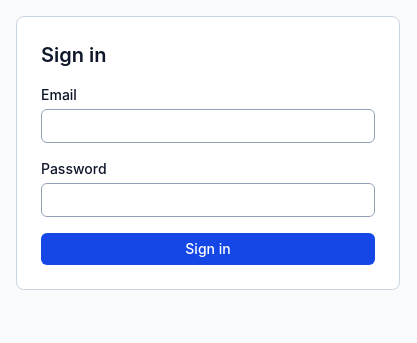
Test: LoginPage › displays invalid credentials and rate-limit errors from API
In the field labelled "Email": (208, 126) 41,109 -> 375,143, type "agent1@helpdesk.local"
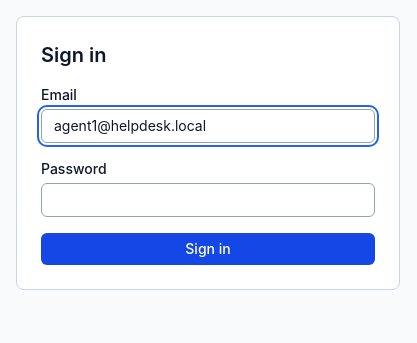
In the password field labelled "Password": (208, 200) 41,183 -> 375,217, type "wrongpass"
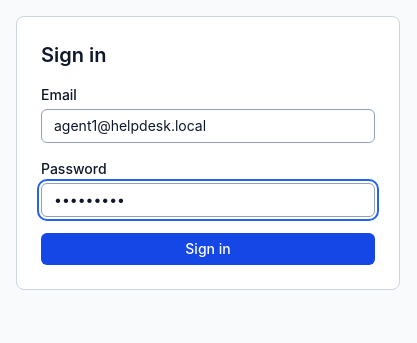
Click the button "Sign in": click(208, 249) 41,233 -> 375,265
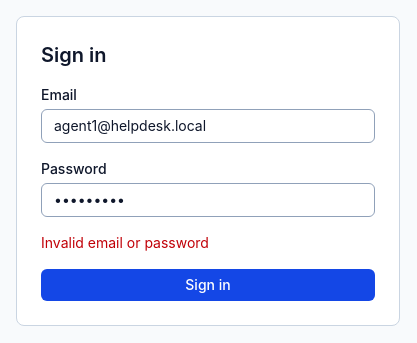
Expected: the message reads "Invalid email or password", 41,234 -> 209,251
Click the button "Sign in": click(208, 285) 41,269 -> 375,301
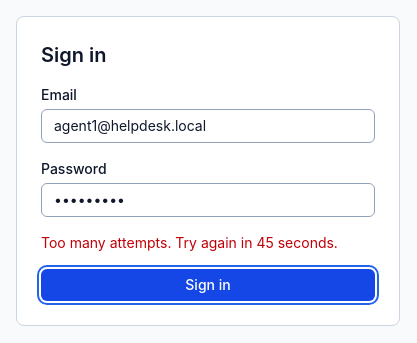
Expected: the message shows "45 seconds", 41,234 -> 338,251
